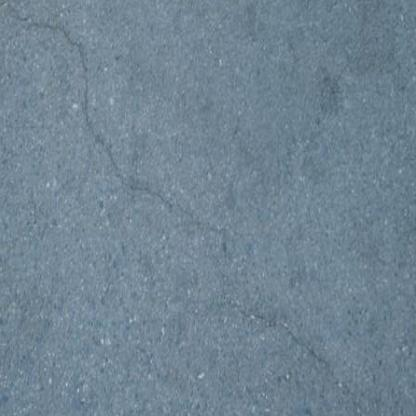Cracks: (0, 0, 233, 268), (219, 273, 374, 416)
